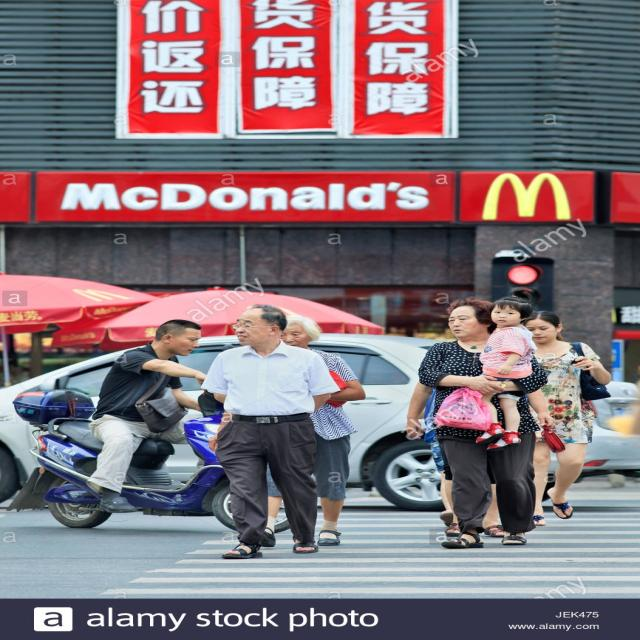body: (196, 304, 346, 562), (415, 296, 552, 551), (237, 314, 368, 548), (81, 317, 226, 515), (402, 363, 515, 544), (521, 309, 613, 527), (469, 285, 540, 455)
